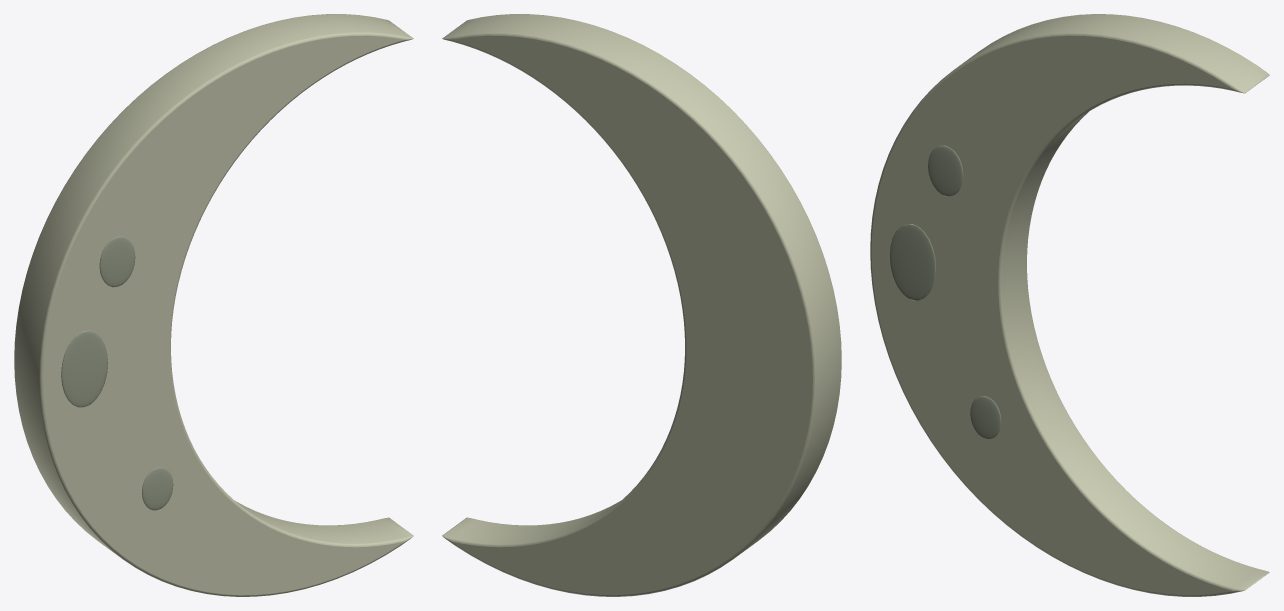
The model's file is sky_crescent_moon.glb.
3 renders of one model, left to right at view 1: azimuth 30°, elevation 25°; view 2: azimuth 150°, elevation 25°; view 3: azimuth 330°, elevation 25°, orthographic.
Visible parts, largest first — view 1: CrescentBody, MoonMare_0, MoonMare_1, MoonMare_2; view 2: CrescentBody; view 3: CrescentBody, MoonMare_0, MoonMare_1, MoonMare_2.
Boxes of the visible parts, box(x1,y1,x2,y2) form: CrescentBody: box(14, 14, 413, 596); MoonMare_0: box(61, 330, 107, 407); MoonMare_1: box(99, 236, 135, 287); MoonMare_2: box(142, 467, 173, 510); CrescentBody: box(442, 14, 841, 596); CrescentBody: box(870, 14, 1269, 596); MoonMare_0: box(889, 224, 935, 300); MoonMare_1: box(927, 145, 963, 196); MoonMare_2: box(970, 396, 1001, 439).
Size of the model in its own units: 1.03 by 1.44 by 0.135.
